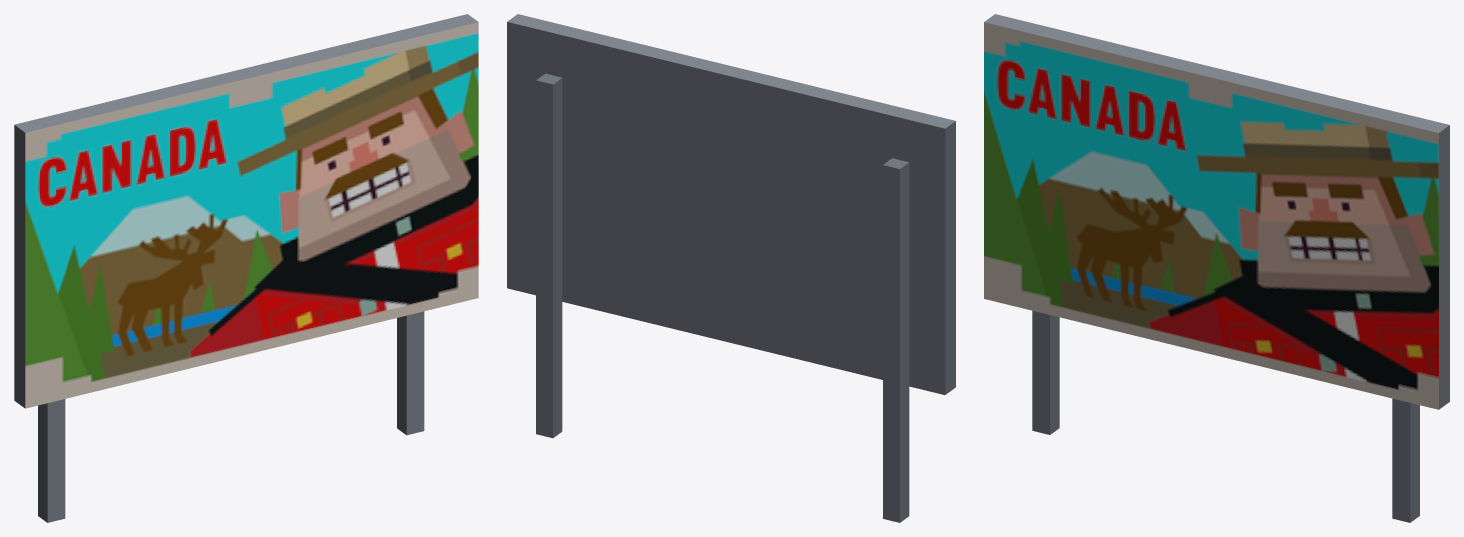
Rendered from SM_Billboard_Stand_05.fbx.
3 renders of one model, left to right at view 1: azimuth 30°, elevation 25°; view 2: azimuth 150°, elevation 25°; view 3: azimuth 330°, elevation 25°, orthographic. The views are drawn at different scales.
Parts seen in each view (by area): view 1: SM_Billboard_Stand_05; view 2: SM_Billboard_Stand_05; view 3: SM_Billboard_Stand_05.
Part boxes in pixels (<box>): SM_Billboard_Stand_05: <box>14,14,478,522</box>; SM_Billboard_Stand_05: <box>507,14,955,522</box>; SM_Billboard_Stand_05: <box>984,14,1449,522</box>.
Size of the model in its own units: 5.05 by 4.35 by 0.4363.
